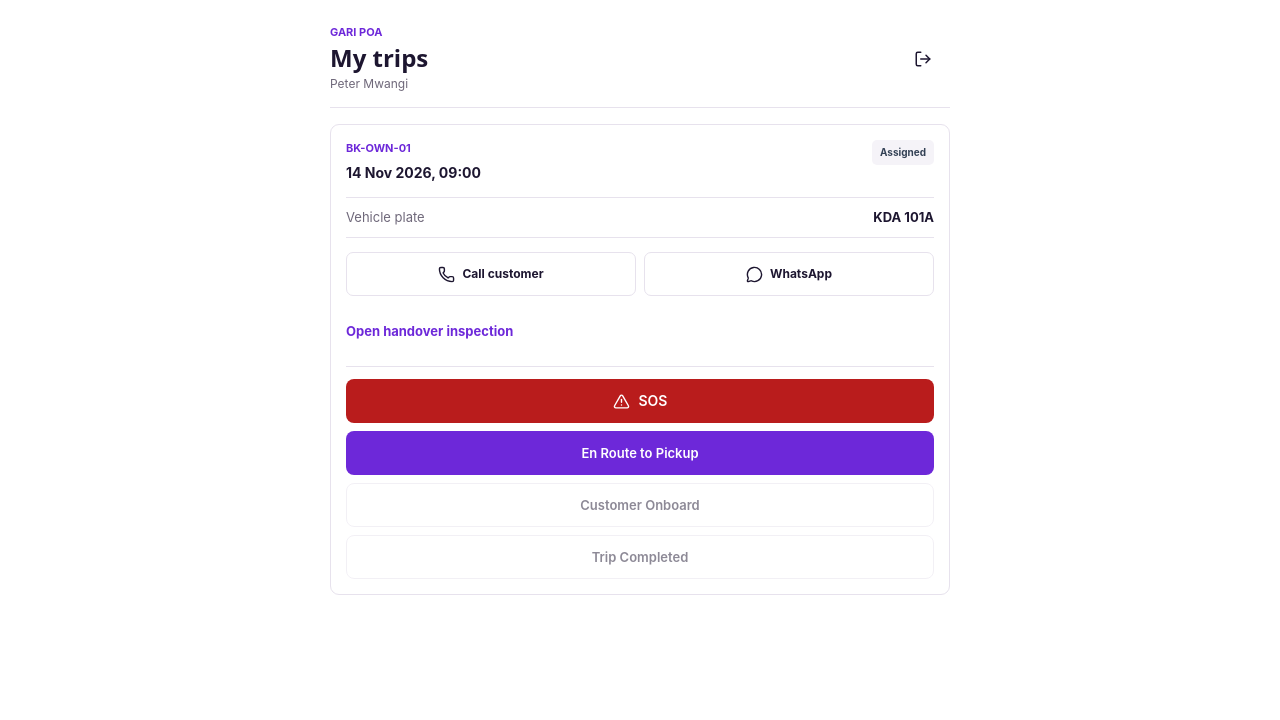
driver trip view › requires confirmation before advancing a trip status
Later steps or results of the test are not shown.
Click the button "En Route to Pickup": (640, 453) [346,431,934,475]
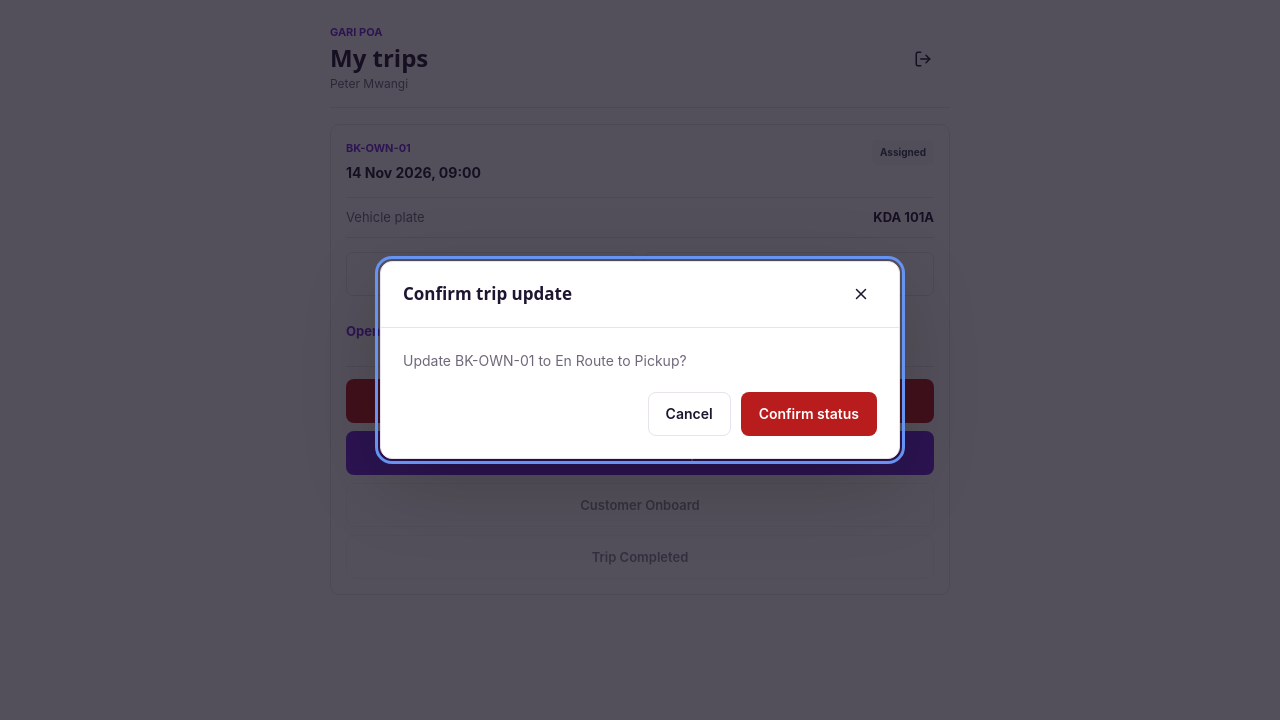
Result: the dialog is shown at [380,261,900,459]
